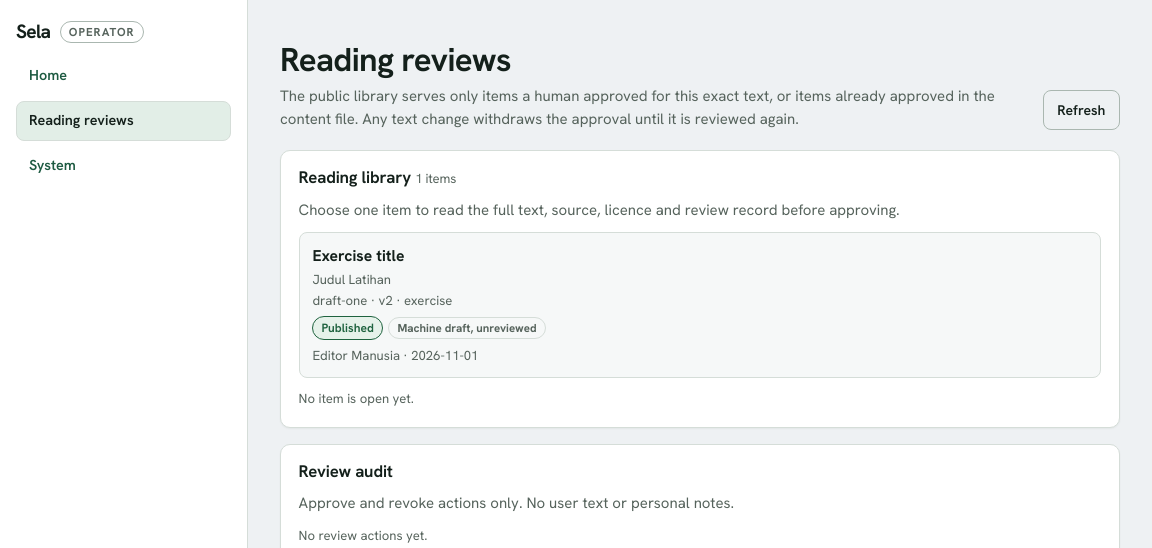
it: operator reading review › ends publication after an inline confirmation and sends the reason
Expected: the heading "Reading reviews" is shown, [280,38,511,81]
Click the button "Exercise title" at [358, 256], box [299,232,1101,378]
(page scrolled)
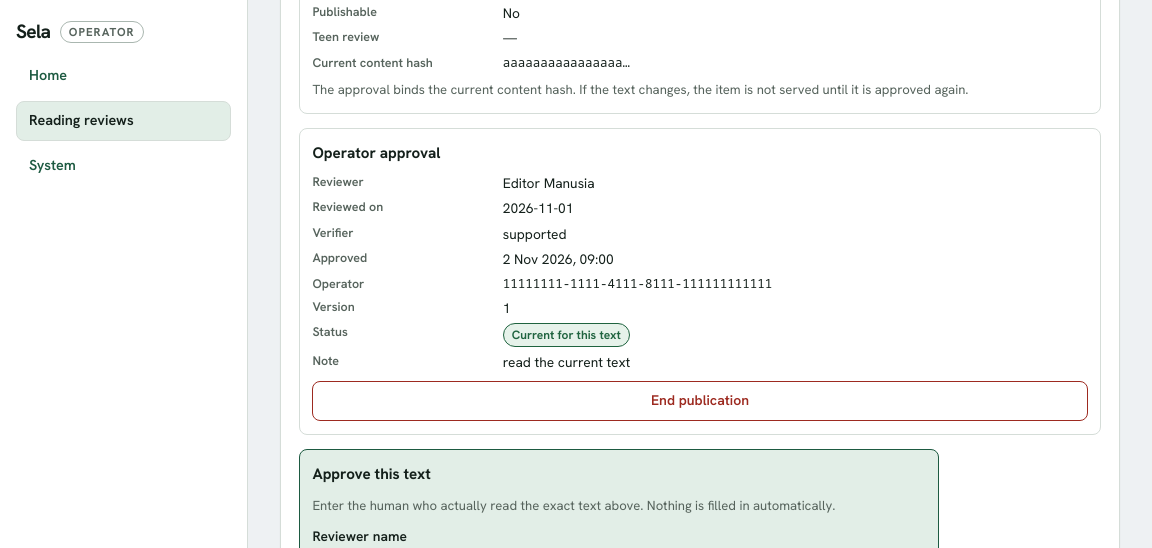
Expected: the text "Current for this text" is shown, [503,324,630,348]
Click the button "End publication" at [700, 401], box [312,381,1088,421]
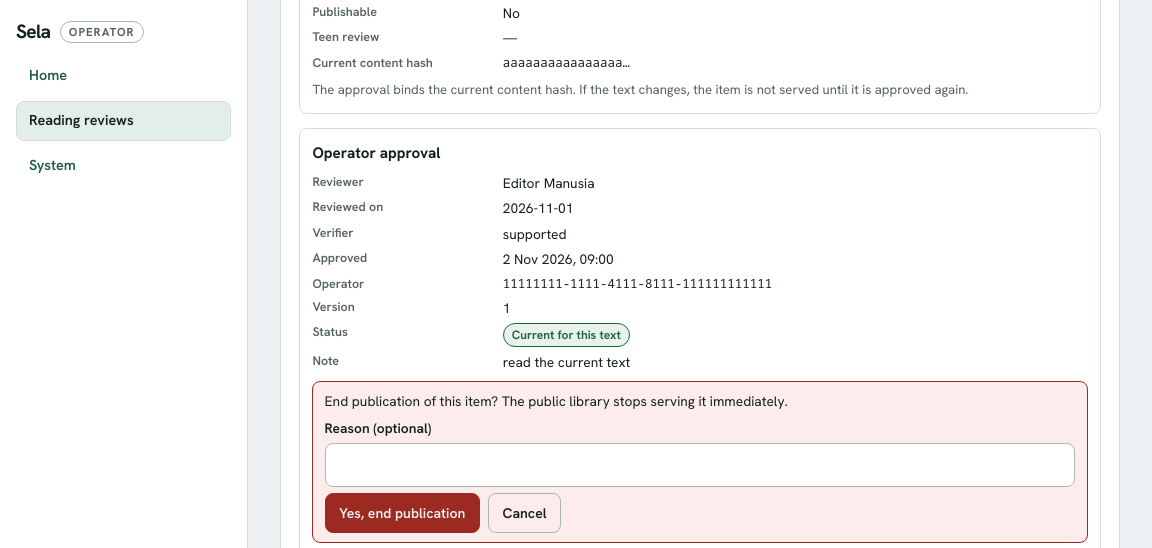
Expected: the text "End publication of this item? The public library stops serving it immediately." is shown, [325,392,788,410]
Type "withdrawn" into the field labelled "Reason (optional)" at [700, 465], box [325,443,1075,487]
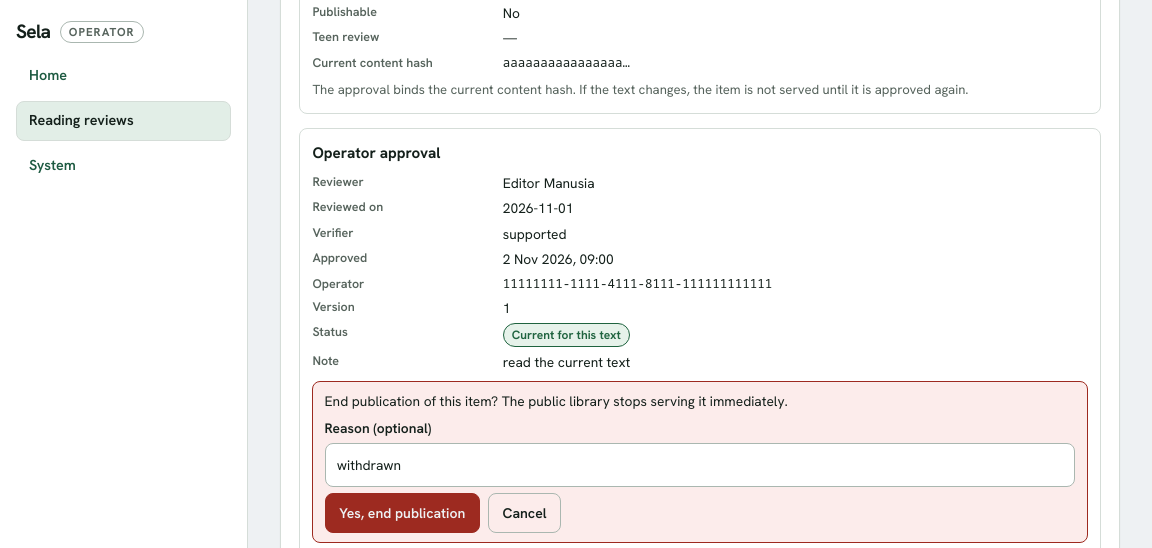
Click the button "Yes, end publication" at [402, 513], box [325,493,480,533]
(page scrolled)
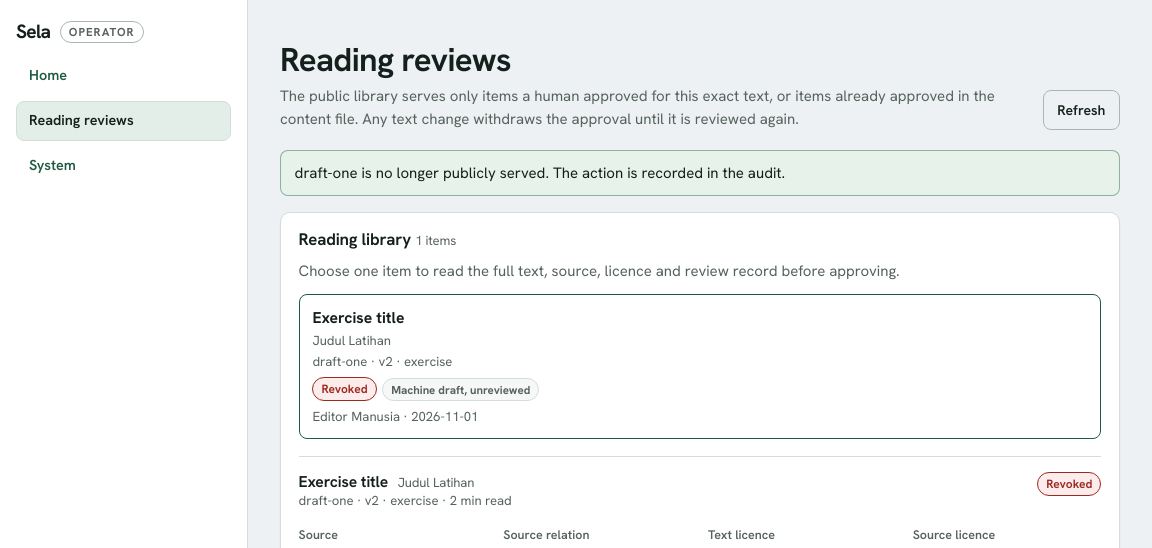
Expected: the text "draft-one is no longer publicly served. The action is recorded in the audit." is shown, [280,150,1120,196]
Expected: the 1st text "Revoked" is shown, [312,377,377,401]
